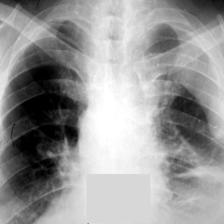tuberculosis: (0, 1, 224, 224)
